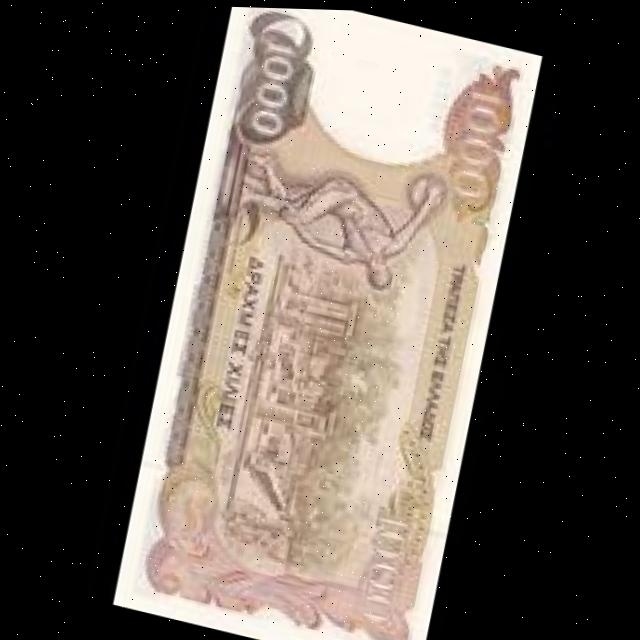banknote: (105, 2, 548, 640), (221, 13, 323, 154), (338, 497, 422, 630), (431, 80, 515, 208)
